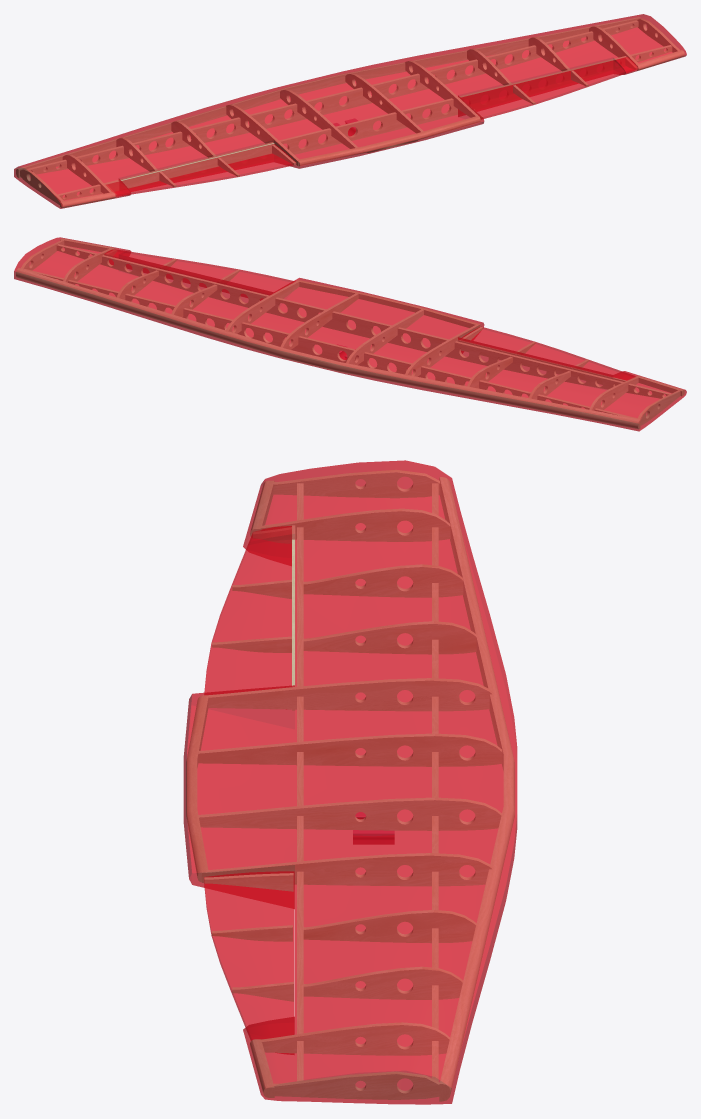
File: TCS_Exhibition_Machine_Best_Wing.fbx
3 views of the same model, one above another, from view 1: azimuth 30°, elevation 25°; view 2: azimuth 150°, elevation 25°; view 3: azimuth 270°, elevation 25° (orthographic). The views are drawn at different scales.
Visible parts, largest first — view 1: Cube.031, Cube.027, Cube.024, Cube.021, Cube.026, Cube.025, Cube.034, Cube.023, Cube.033; view 2: Cube.031, Cube.021, Cube.024, Cube.025, Cube.027, Cube.026, Cube.023, Cube.034, Cube.033; view 3: Cube.031, Cube.024, Cube.027, Cube.021, Cube.023, Cube.033, Cube.025, Cube.026.
Part boxes in pixels (bbox=[...]): Cube.031: bbox=[14, 14, 686, 208]; Cube.027: bbox=[106, 57, 637, 196]; Cube.024: bbox=[62, 26, 638, 193]; Cube.021: bbox=[16, 17, 684, 207]; Cube.026: bbox=[27, 20, 638, 175]; Cube.025: bbox=[58, 45, 672, 200]; Cube.034: bbox=[105, 143, 274, 191]; Cube.023: bbox=[20, 18, 679, 204]; Cube.033: bbox=[106, 58, 637, 196]; Cube.031: bbox=[14, 237, 686, 431]; Cube.021: bbox=[16, 238, 684, 428]; Cube.024: bbox=[63, 248, 638, 410]; Cube.025: bbox=[56, 244, 670, 398]; Cube.027: bbox=[104, 249, 635, 380]; Cube.026: bbox=[24, 269, 636, 418]; Cube.023: bbox=[21, 240, 680, 425]; Cube.034: bbox=[457, 340, 626, 385]; Cube.033: bbox=[105, 250, 634, 377]; Cube.031: bbox=[183, 460, 517, 1104]; Cube.024: bbox=[198, 508, 502, 1055]; Cube.027: bbox=[204, 526, 294, 1054]; Cube.021: bbox=[186, 477, 514, 1101]; Cube.023: bbox=[273, 469, 440, 1099]; Cube.033: bbox=[204, 527, 293, 1001]; Cube.025: bbox=[297, 483, 303, 1081]; Cube.026: bbox=[432, 483, 438, 1081].
Size of the model in its own units: 19.57 by 1.18 by 4.53.
